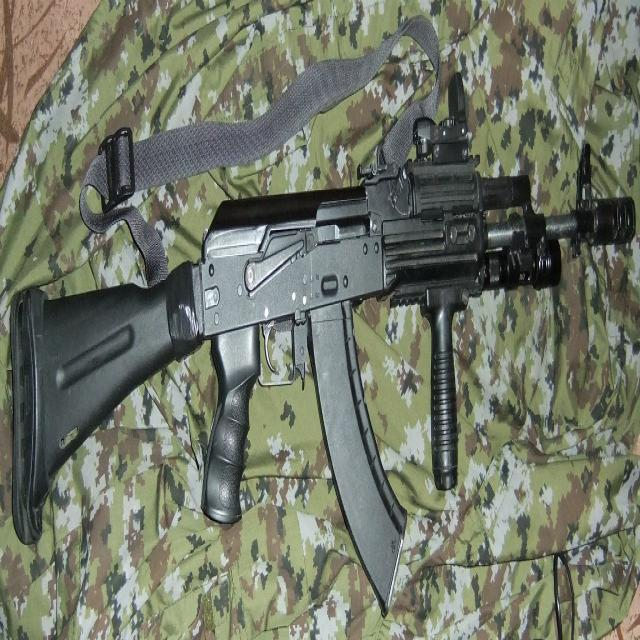firearm: (9, 75, 636, 616)
